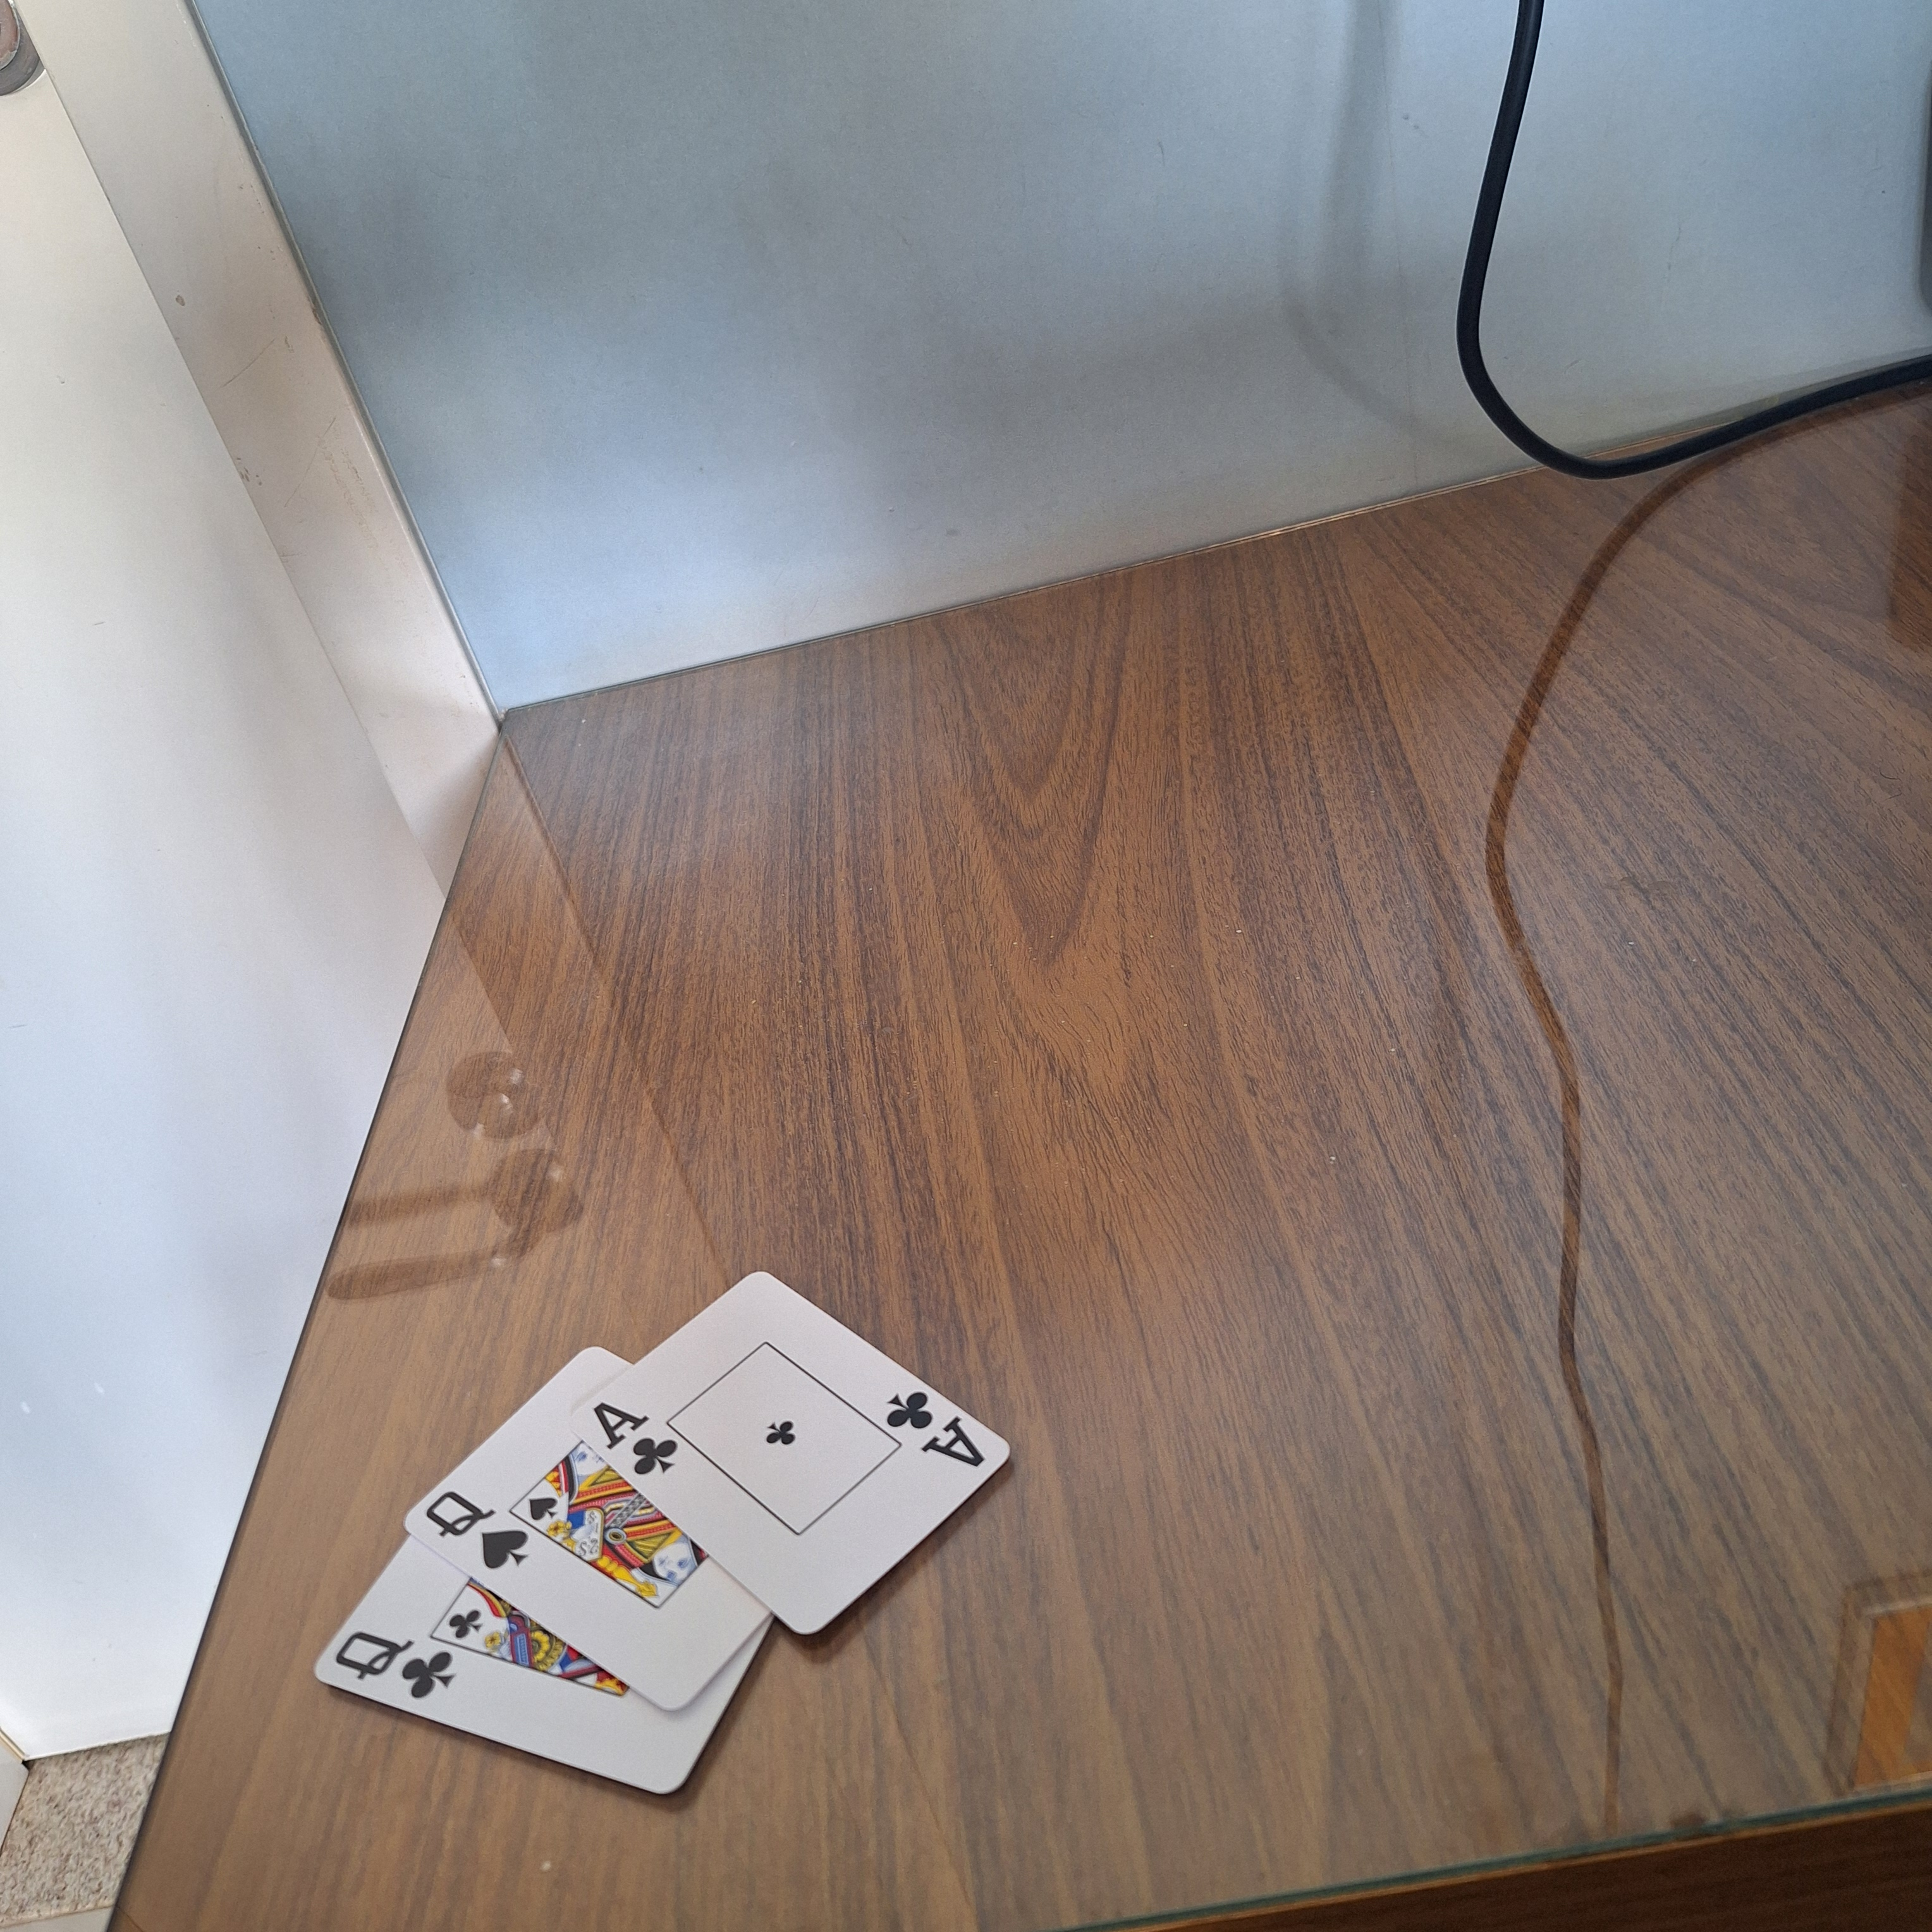AP: (883, 1385, 991, 1481), (587, 1391, 681, 1479)
QE: (419, 1486, 534, 1573)
QP: (333, 1626, 456, 1702)
